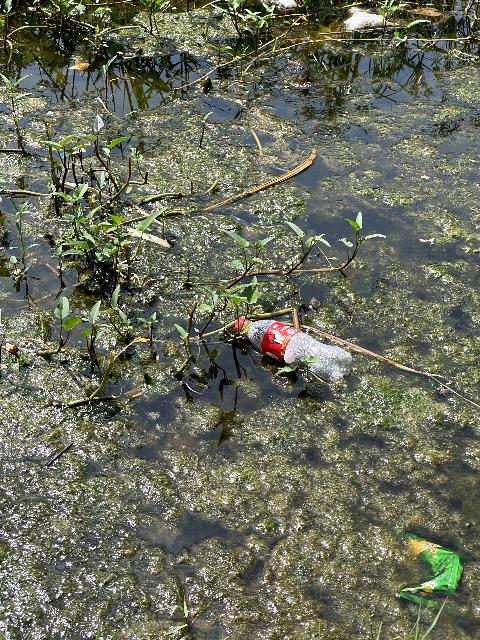bottle: (221, 313, 355, 380)
